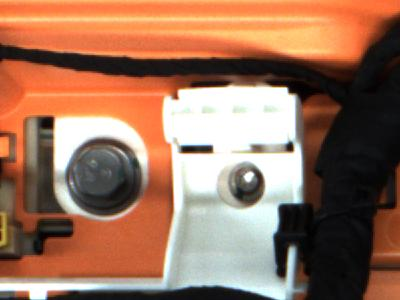nut_b: (66, 136, 149, 218)
